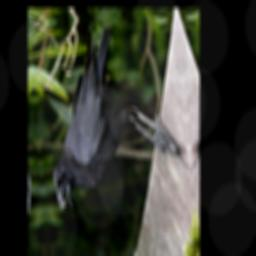Crow: (39, 18, 177, 211)
